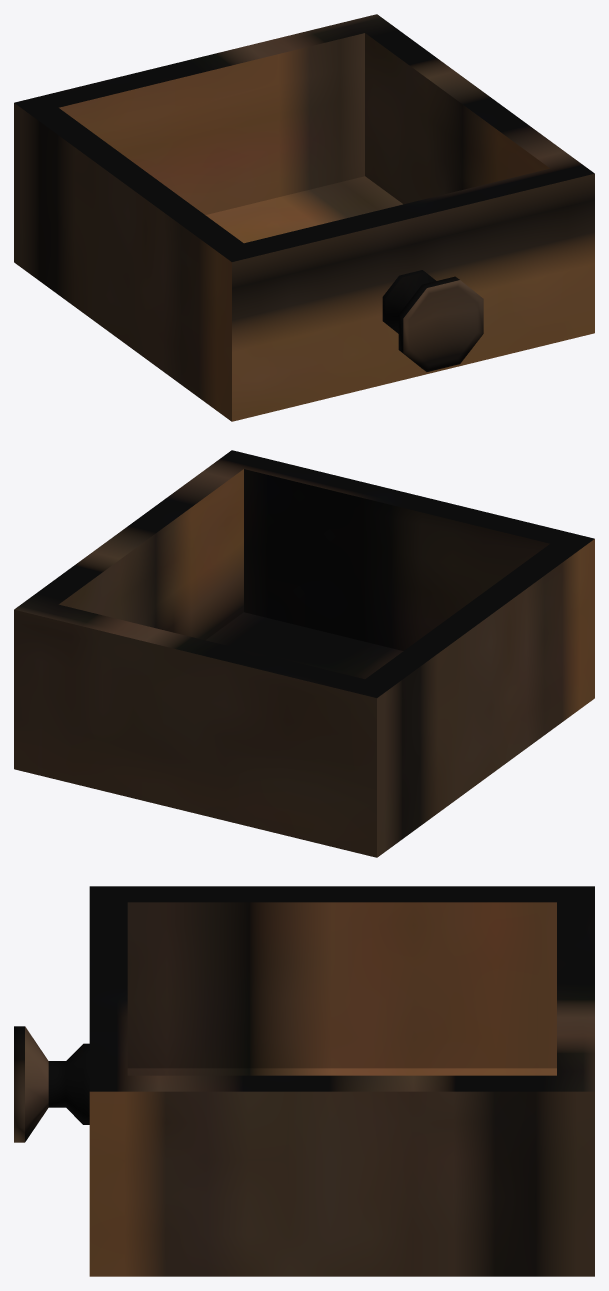
Rendered from Writing_Desk_Small_Top_Drawer.FBX.
3 views of the same model, one above another, from view 1: azimuth 30°, elevation 25°; view 2: azimuth 150°, elevation 25°; view 3: azimuth 270°, elevation 25° (orthographic). The views are drawn at different scales.
Parts seen in each view (by area): view 1: Writing_Desk_Smaller_Top_Drawers; view 2: Writing_Desk_Smaller_Top_Drawers; view 3: Writing_Desk_Smaller_Top_Drawers.
Part boxes in pixels (<box>): Writing_Desk_Smaller_Top_Drawers: <box>14,14,594,421</box>; Writing_Desk_Smaller_Top_Drawers: <box>14,450,594,857</box>; Writing_Desk_Smaller_Top_Drawers: <box>14,886,594,1276</box>.
Bounding box in the file's own units: 25.65 × 10.78 × 30.67.
